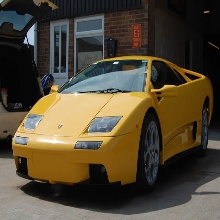no damage: (11, 56, 213, 191)
